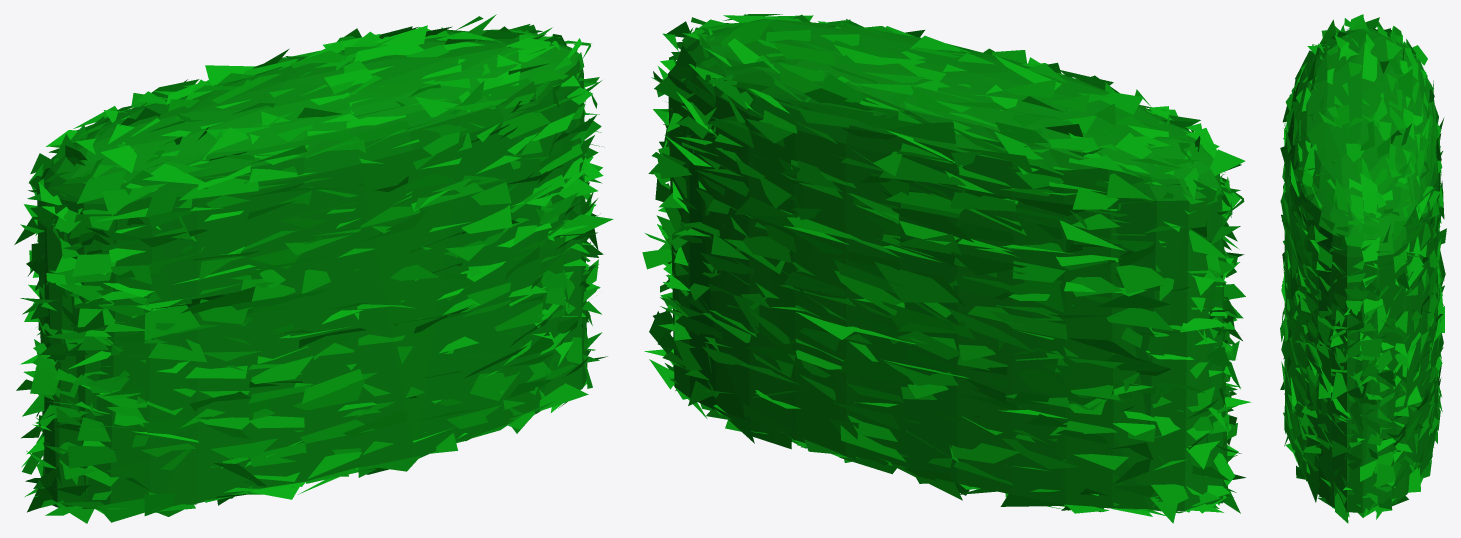
The model's file is Hedge.fbx.
3 views of the same model, side by side, from view 1: azimuth 30°, elevation 25°; view 2: azimuth 150°, elevation 25°; view 3: azimuth 270°, elevation 25° (orthographic). The views are drawn at different scales.
Parts seen in each view (by area): view 1: Cube; view 2: Cube; view 3: Cube.
Part boxes in pixels (x1,y1,x2,y2): Cube: (14, 14, 613, 523); Cube: (642, 14, 1251, 523); Cube: (1280, 14, 1446, 523).
Bounding box in the file's own units: 1000 × 300 × 648.
